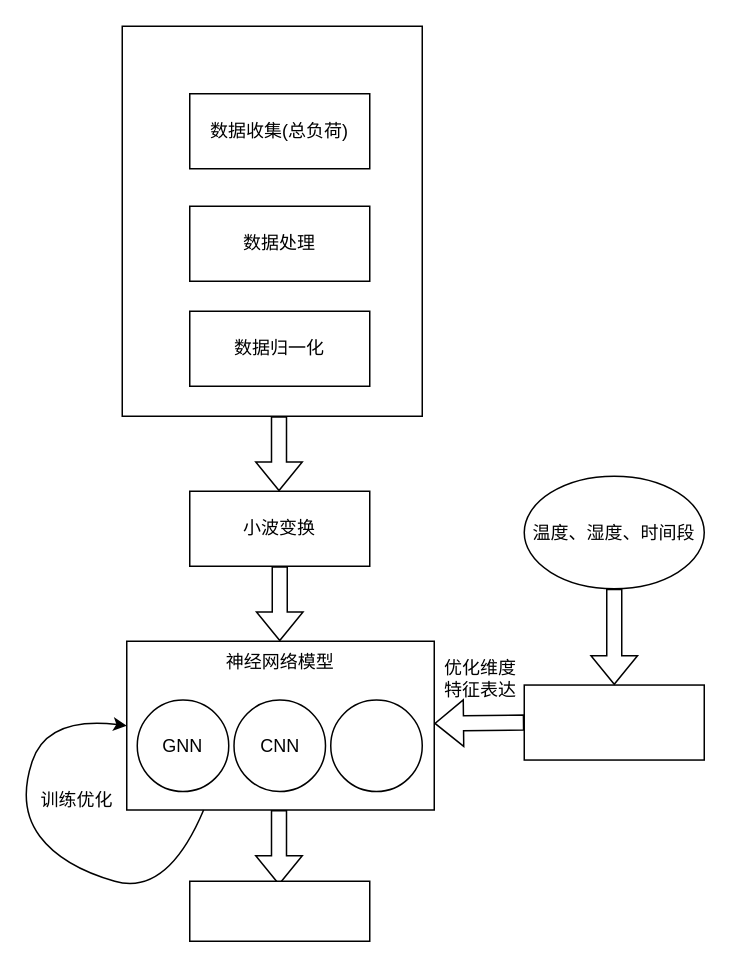
Some shapes in this 731 by 968 pixel diagram are drawn without their labels. The box of each missing label's shape, as (x1, y1, x2, y2) in pixels:
LSTM: (329, 699, 422, 792)
数据预处理: (121, 25, 422, 416)
特征选择: (523, 684, 704, 760)
空调负荷: (188, 880, 370, 941)
